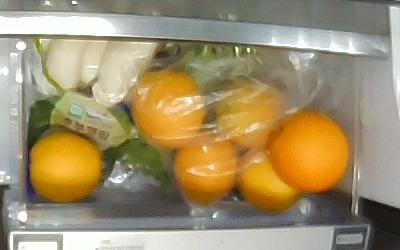orange: (269, 111, 348, 190), (28, 132, 100, 200), (236, 140, 299, 211)
orange_vinyl: (131, 71, 203, 147), (171, 132, 237, 202), (216, 82, 287, 147)
